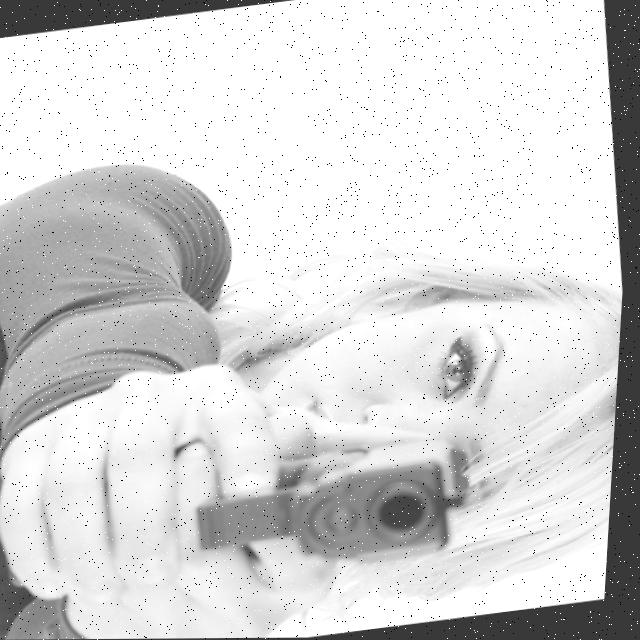pistol: (197, 428, 489, 585)
